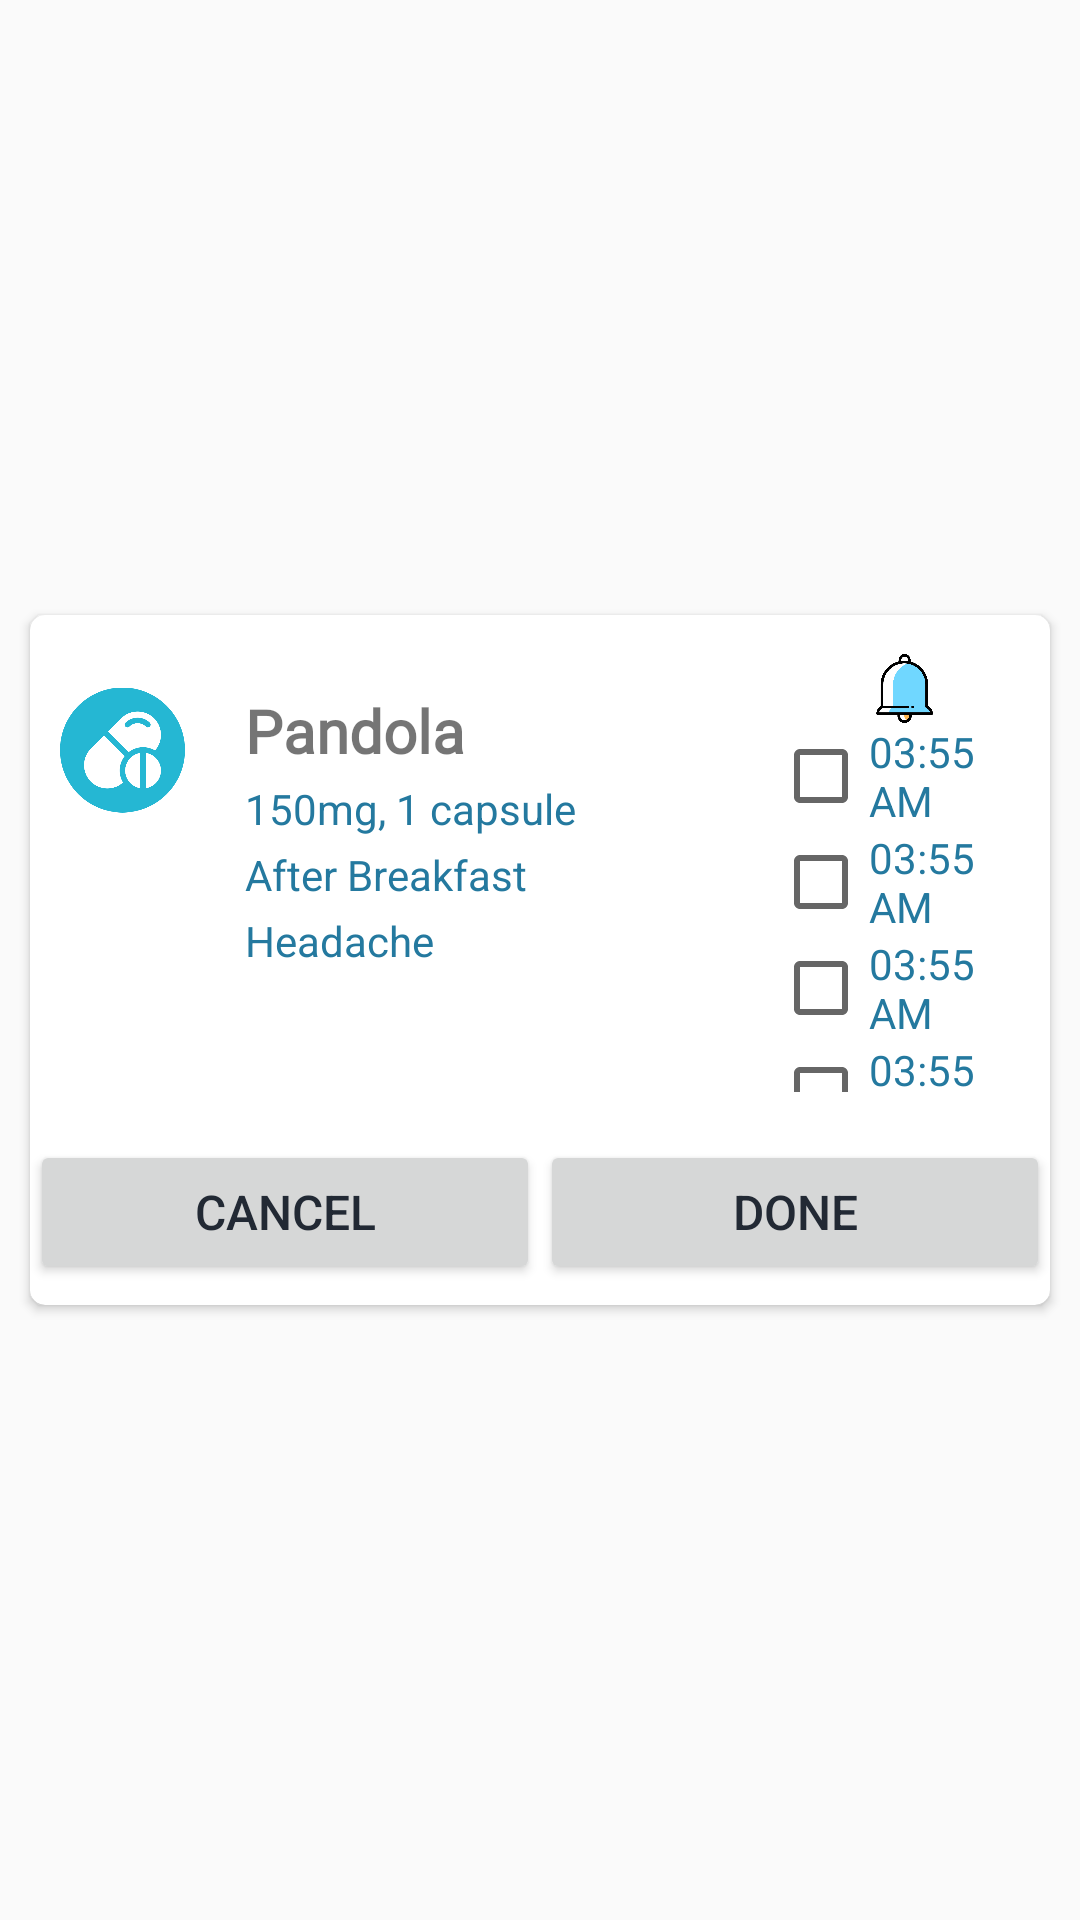

Where icons sit on this 1080*1920 app screen, as (x1, y1, x2, y2):
medicine: (60, 688, 185, 813)
notification bell: (876, 654, 933, 723)
